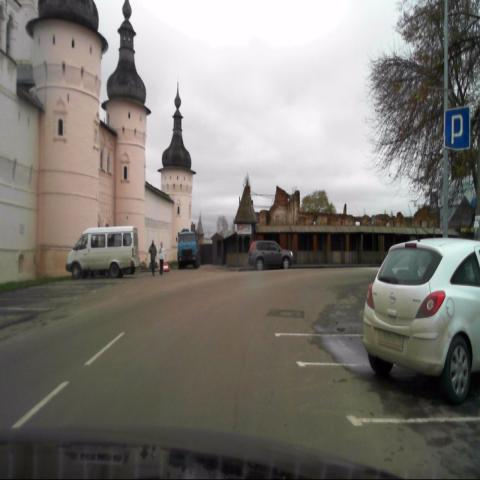6_4: (444, 106, 470, 150)
